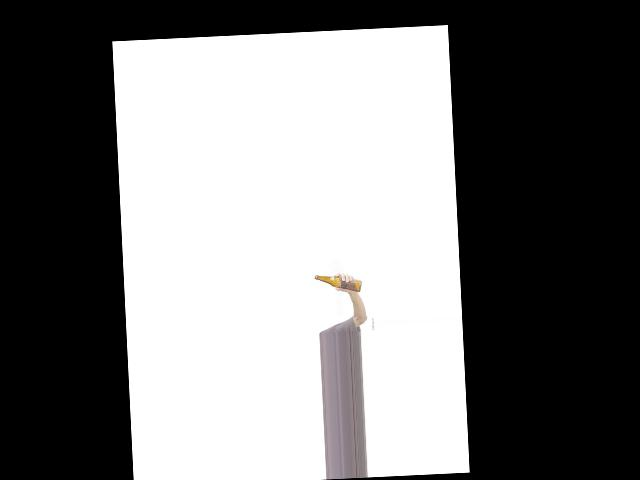beer: (314, 272, 362, 294)
